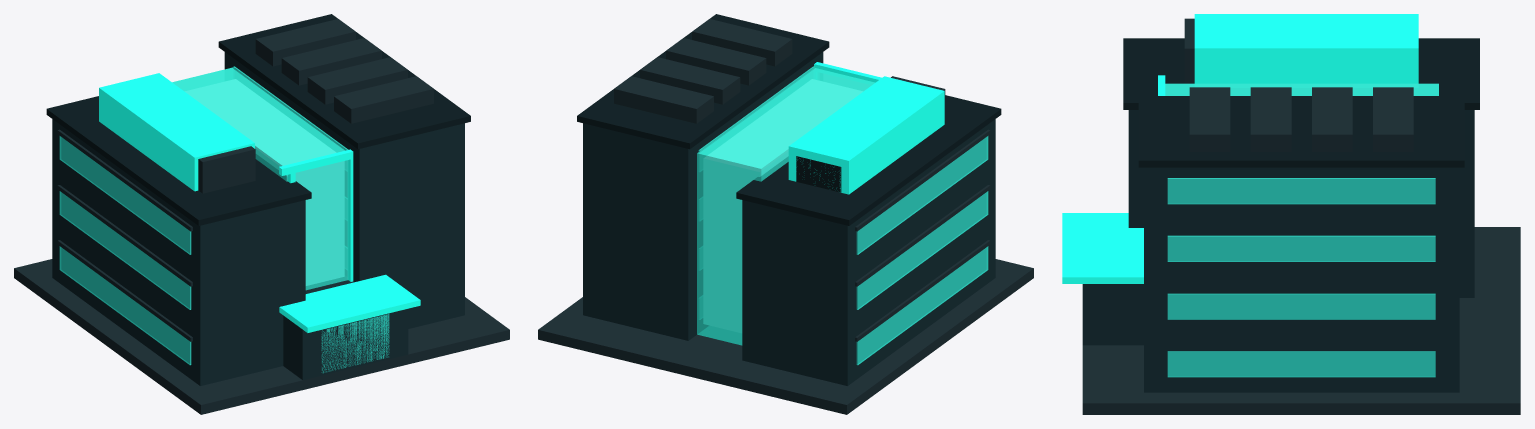
Rendered from hec.glb.
3 renders of one model, left to right at view 1: azimuth 30°, elevation 25°; view 2: azimuth 150°, elevation 25°; view 3: azimuth 270°, elevation 25°, orthographic. The views are drawn at different scales.
Visible parts, largest first — view 1: HEC_WestWing, HEC_EastWing, HEC_Plinth, HEC_CentralAtrium_Glass, HEC_CentralAtrium_Glow, HEC_VentPlant_LouverScreen, HEC_WW_RoofSlab, HEC_EW_RoofSlab, HEC_GroundConcourse, HEC_EntranceCanopy, HEC_WW_RibbonGlass_1, HEC_WW_RibbonGlass_3 (+13 smaller); view 2: HEC_WestWing, HEC_EastWing, HEC_Plinth, HEC_CentralAtrium_Glass, HEC_CentralAtrium_Glow, HEC_VentPlant_LouverScreen, HEC_WW_RoofSlab, HEC_EW_RoofSlab, HEC_WW_RibbonGlass_1, HEC_WW_RibbonGlass_3, HEC_WW_RibbonGlass_2, HEC_SawtoothSkylight_3 (+9 smaller); view 3: HEC_EastWing, HEC_Plinth, HEC_VentPlant_LouverScreen, HEC_EW_RoofSlab, HEC_EW_RibbonGlass_1, HEC_EW_RibbonGlass_2, HEC_EW_RibbonGlass_3, HEC_EW_RibbonGlass_4, HEC_WW_RoofSlab, HEC_EntranceCanopy, HEC_WestWing, HEC_GroundConcourse (+6 smaller).
Part boxes in pixels (x1,y1,x2,y2): HEC_WestWing: (52,119,305,385); HEC_EastWing: (224,52,464,328); HEC_Plinth: (14,259,509,414); HEC_CentralAtrium_Glass: (172,67,348,290); HEC_CentralAtrium_Glow: (185,79,343,285); HEC_VentPlant_LouverScreen: (99,73,254,191); HEC_WW_RoofSlab: (46,96,311,225); HEC_EW_RoofSlab: (218,14,470,149); HEC_GroundConcourse: (283,276,408,379); HEC_EntranceCanopy: (279,274,420,332); HEC_WW_RibbonGlass_1: (59,246,191,365); HEC_WW_RibbonGlass_3: (59,136,191,254); HEC_WestWing: (742,119,995,385); HEC_EastWing: (583,52,823,340); HEC_Plinth: (538,259,1033,414); HEC_CentralAtrium_Glass: (697,68,874,345); HEC_CentralAtrium_Glow: (704,79,862,332); HEC_VentPlant_LouverScreen: (788,76,944,194); HEC_WW_RoofSlab: (736,95,1001,225); HEC_EW_RoofSlab: (577,14,829,149); HEC_WW_RibbonGlass_1: (856,246,988,365); HEC_WW_RibbonGlass_3: (856,136,988,254); HEC_WW_RibbonGlass_2: (856,191,988,309); HEC_SawtoothSkylight_3: (614,76,713,123); HEC_EastWing: (1144,167,1459,392); HEC_Plinth: (1082,227,1520,414); HEC_VentPlant_LouverScreen: (1194,14,1418,83); HEC_EW_RoofSlab: (1138,96,1464,167); HEC_EW_RibbonGlass_1: (1167,351,1435,377); HEC_EW_RibbonGlass_2: (1167,293,1435,319); HEC_EW_RibbonGlass_3: (1167,235,1435,261); HEC_EW_RibbonGlass_4: (1167,178,1435,204); HEC_WW_RoofSlab: (1123,38,1479,109); HEC_EntranceCanopy: (1062,213,1143,283); HEC_WestWing: (1128,110,1474,297); HEC_GroundConcourse: (1082,284,1143,345).
Size of the model in its own units: 8.2 by 5.7 by 9.
